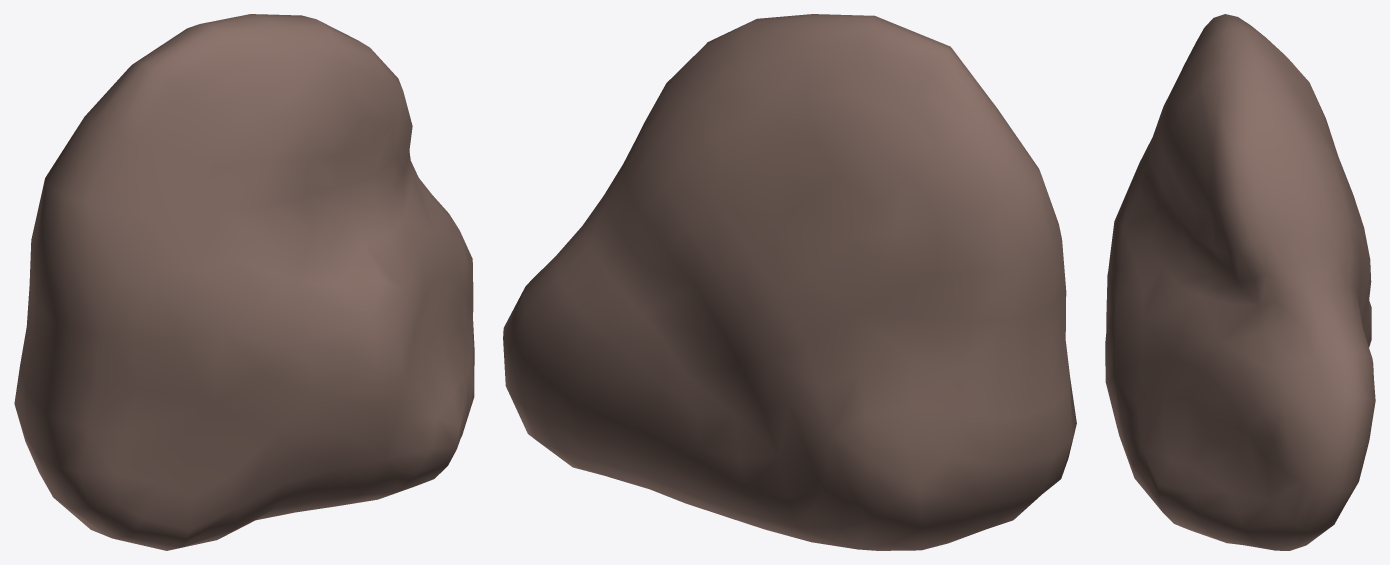
File: Mineral_1_low.fbx
The picture shows the model from 3 angles, left to right: view 1: azimuth 30°, elevation 25°; view 2: azimuth 150°, elevation 25°; view 3: azimuth 270°, elevation 25°; orthographic projection. The views are drawn at different scales.
Visible parts, largest first — view 1: Mineral_ghj; view 2: Mineral_ghj; view 3: Mineral_ghj.
Boxes of the visible parts, x1,y1,x2,y2 form: Mineral_ghj: [14, 14, 474, 550]; Mineral_ghj: [503, 14, 1076, 550]; Mineral_ghj: [1105, 14, 1375, 550].
Size of the model in its own units: 14.93 by 14.7 by 8.35.
